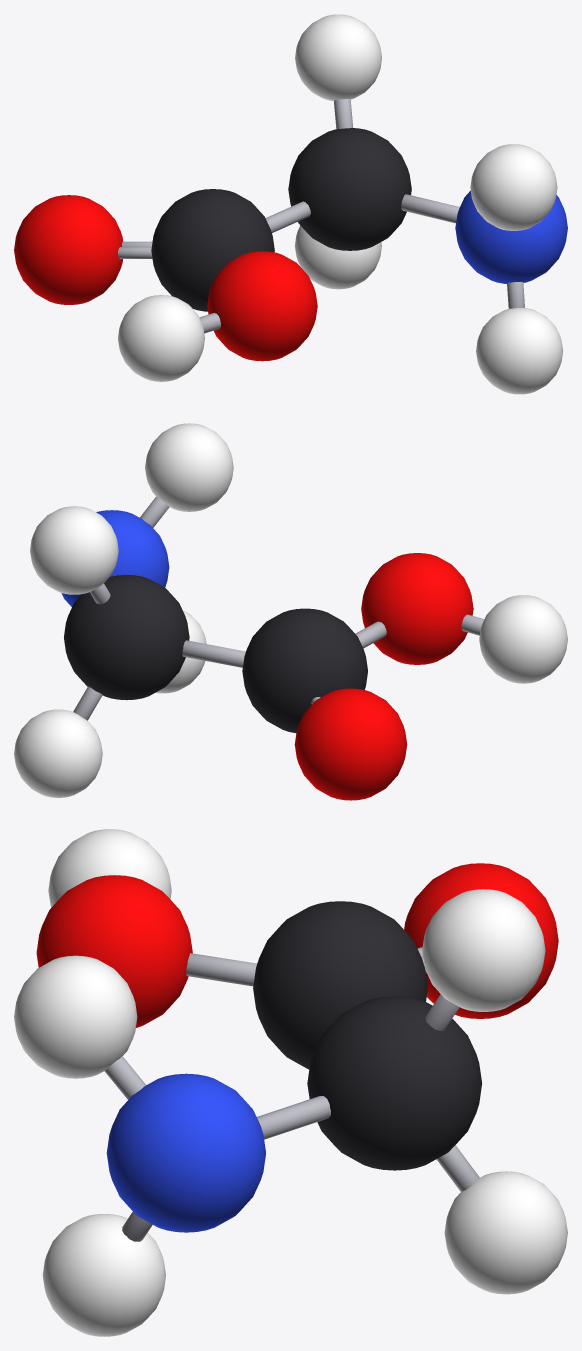
Rendered from glycine.glb.
3 renders of one model, top to bottom at view 1: azimuth 30°, elevation 25°; view 2: azimuth 150°, elevation 25°; view 3: azimuth 270°, elevation 25°, orthographic. The views are drawn at different scales.
Visible parts, largest first — view 1: C1, O3, O4, C2, N0, H5, H9, H6, H8, H7, bond0-0, bond1-0 (+1 smaller); view 2: C1, C2, O3, O4, H8, H9, H7, H5, N0, H6, bond1-0, bond6-0 (+2 smaller); view 3: C1, N0, C2, O4, H8, H5, H7, H6, O3, H9, bond0-0, bond3-0 (+3 smaller).
Boxes of the visible parts, bbox=[...] form: C1: bbox=[288, 128, 411, 250]; O3: bbox=[14, 195, 123, 304]; O4: bbox=[207, 251, 317, 361]; C2: bbox=[151, 189, 274, 311]; N0: bbox=[455, 191, 567, 283]; H5: bbox=[470, 144, 557, 230]; H9: bbox=[118, 295, 204, 381]; H6: bbox=[476, 308, 562, 394]; H8: bbox=[295, 14, 381, 100]; H7: bbox=[295, 225, 381, 289]; bond0-0: bbox=[401, 194, 459, 223]; bond1-0: bbox=[265, 201, 310, 232]; C1: bbox=[64, 575, 189, 700]; C2: bbox=[242, 608, 367, 732]; O3: bbox=[294, 688, 407, 800]; O4: bbox=[361, 553, 473, 664]; H8: bbox=[30, 506, 118, 594]; H9: bbox=[479, 595, 567, 683]; H7: bbox=[14, 709, 102, 797]; H5: bbox=[145, 423, 233, 511]; N0: bbox=[61, 510, 169, 606]; H6: bbox=[155, 610, 206, 693]; bond1-0: bbox=[182, 640, 245, 667]; bond6-0: bbox=[73, 686, 102, 720]; C1: bbox=[307, 996, 482, 1170]; N0: bbox=[106, 1073, 265, 1232]; C2: bbox=[253, 901, 427, 1069]; O4: bbox=[36, 875, 192, 1027]; H8: bbox=[422, 889, 545, 1011]; H5: bbox=[14, 955, 137, 1078]; H7: bbox=[444, 1171, 567, 1294]; H6: bbox=[42, 1214, 165, 1336]; O3: bbox=[404, 863, 558, 1018]; H9: bbox=[48, 829, 171, 907]; bond0-0: bbox=[257, 1096, 330, 1139]; bond3-0: bbox=[186, 953, 256, 986].
Bounding box in the file's own units: 4.42 × 2.6 × 3.23.
